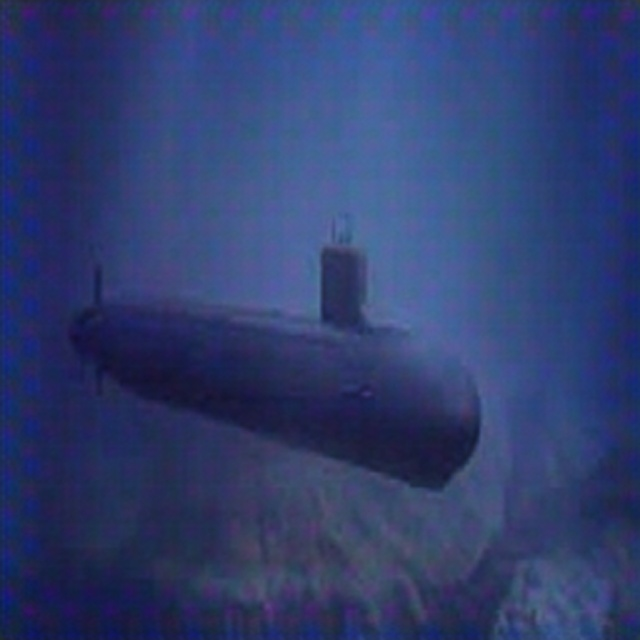submarine: (60, 219, 488, 509)
